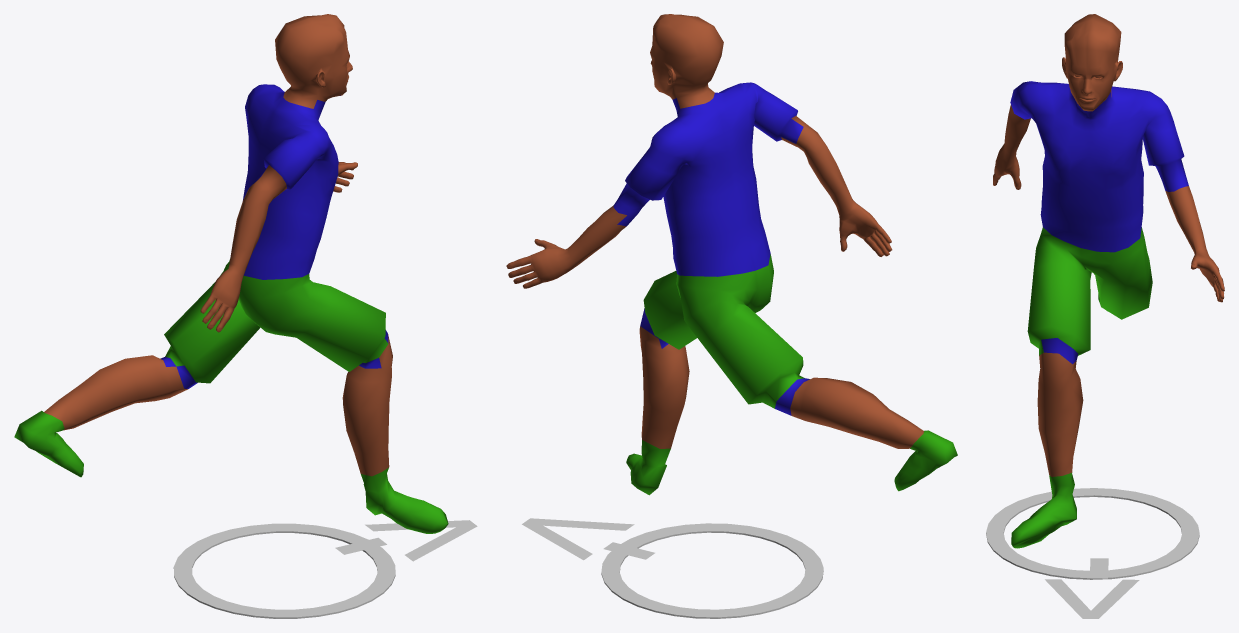
Rendered from playerAI_000017.obj.
3 views of the same model, side by side, from view 1: azimuth 30°, elevation 25°; view 2: azimuth 150°, elevation 25°; view 3: azimuth 270°, elevation 25° (orthographic). The views are drawn at different scales.
Visible parts, largest first — view 1: soccerplayer.003_mesh.002, Circle.001, Text_Mesh; view 2: soccerplayer.003_mesh.002, Circle.001, Text_Mesh; view 3: soccerplayer.003_mesh.002, Circle.001, Text_Mesh.
Boxes of the visible parts, x1=… form: soccerplayer.003_mesh.002: x1=14, y1=14, x2=448, y2=533; Circle.001: x1=173, y1=523, x2=395, y2=618; Text_Mesh: x1=335, y1=520, x2=477, y2=561; soccerplayer.003_mesh.002: x1=506, y1=14, x2=957, y2=495; Circle.001: x1=601, y1=523, x2=823, y2=618; Text_Mesh: x1=522, y1=518, x2=654, y2=560; soccerplayer.003_mesh.002: x1=993, y1=14, x2=1224, y2=548; Circle.001: x1=986, y1=488, x2=1199, y2=579; Text_Mesh: x1=1045, y1=558, x2=1139, y2=618.
Bounding box in the file's own units: 2.49 × 2.95 × 1.21.
